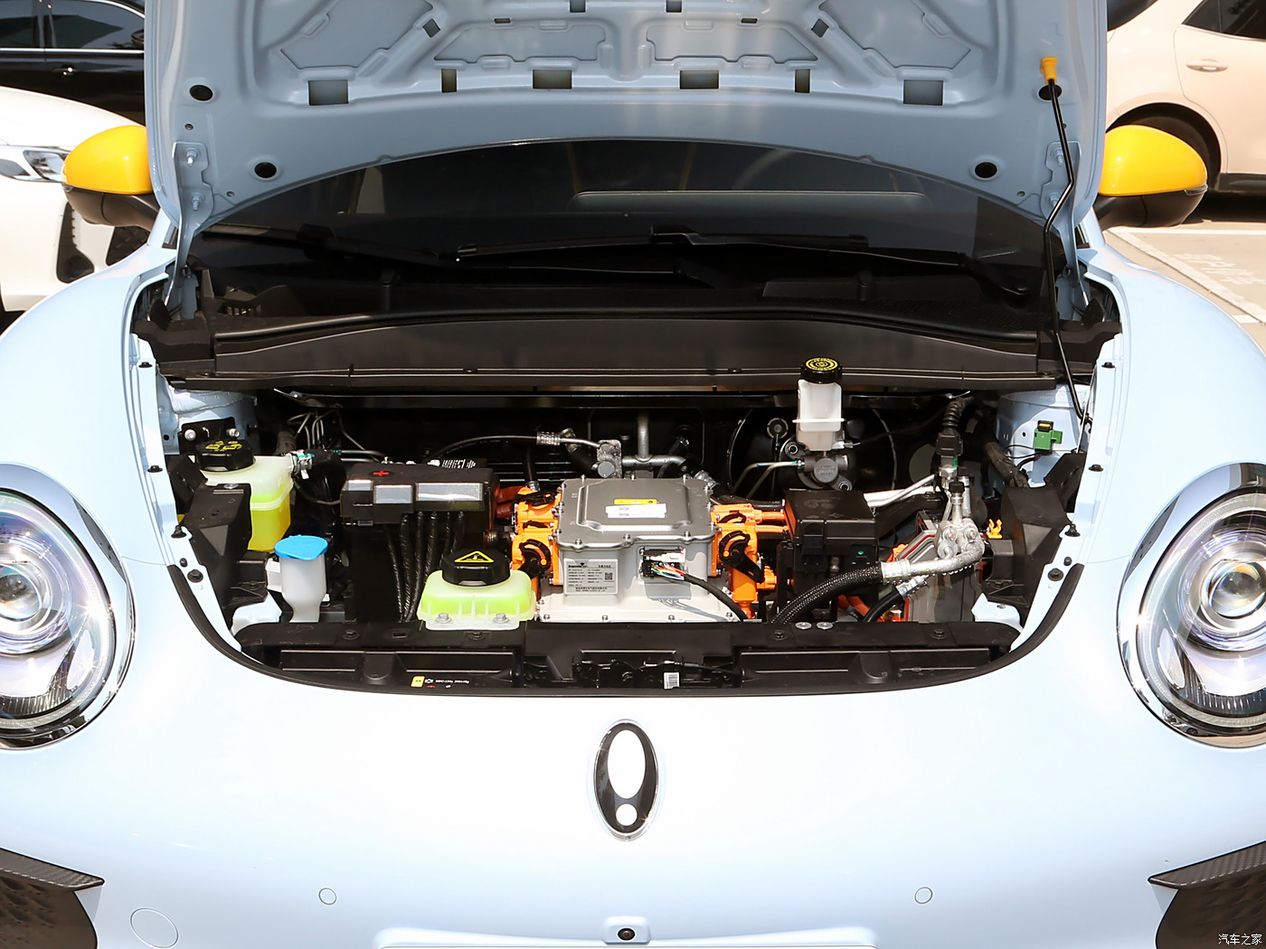ORA: (594, 719, 657, 841)
